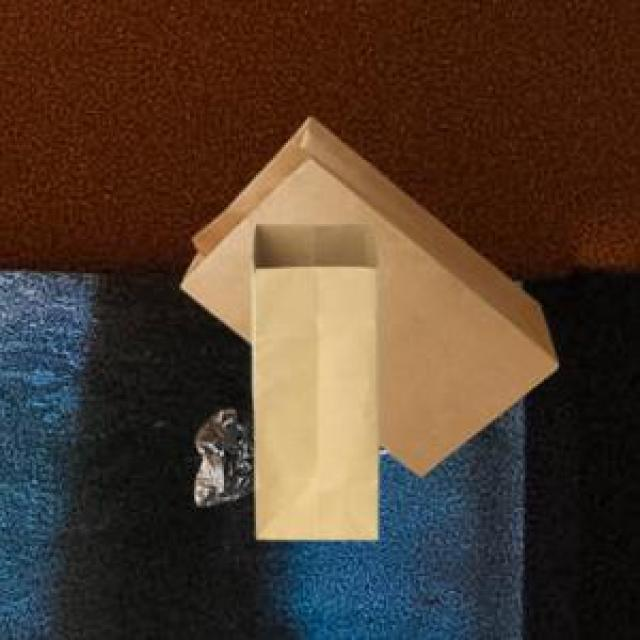miscellaneous trash: (190, 405, 252, 501)
paper: (177, 113, 555, 472), (248, 220, 376, 536)
